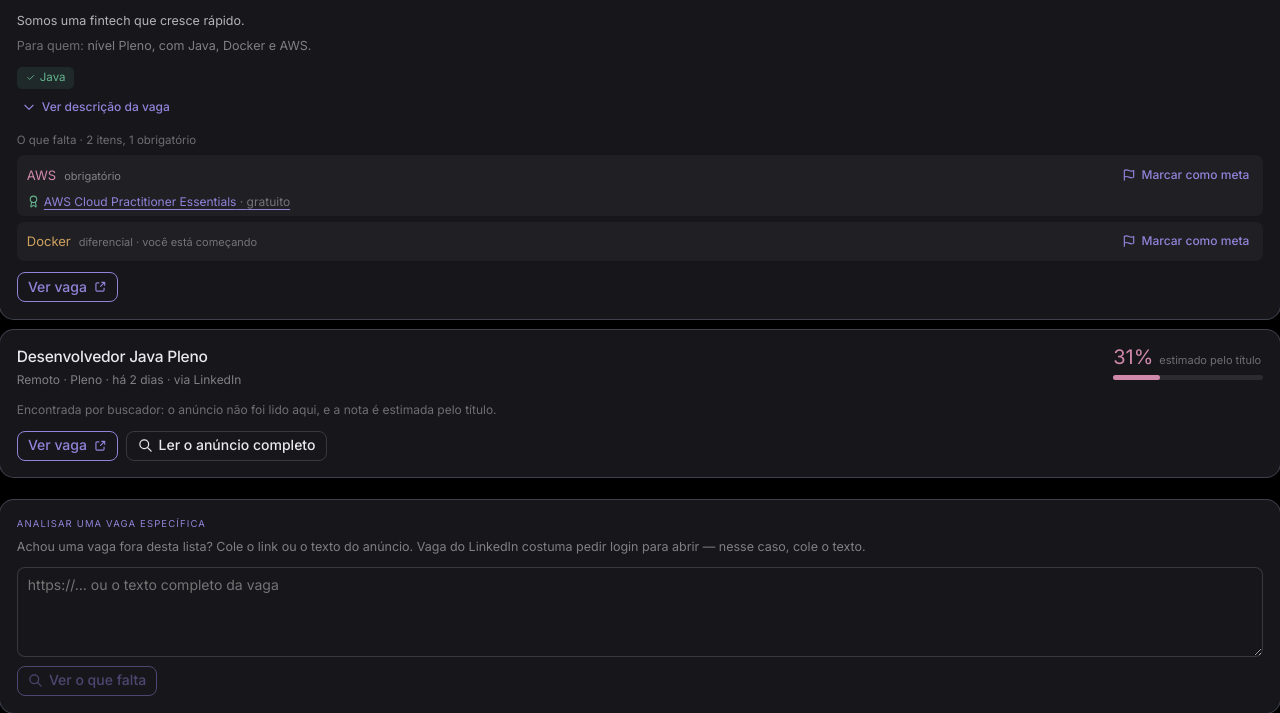
Test: vagas › vaga de buscador oferece ler o anúncio completo pela IA
This screenshot has width=1280, height=713.
(page scrolled)
Click the button "Ler o anúncio completo": {"x": 226, "y": 446} [126, 431, 326, 461]
(page scrolled)
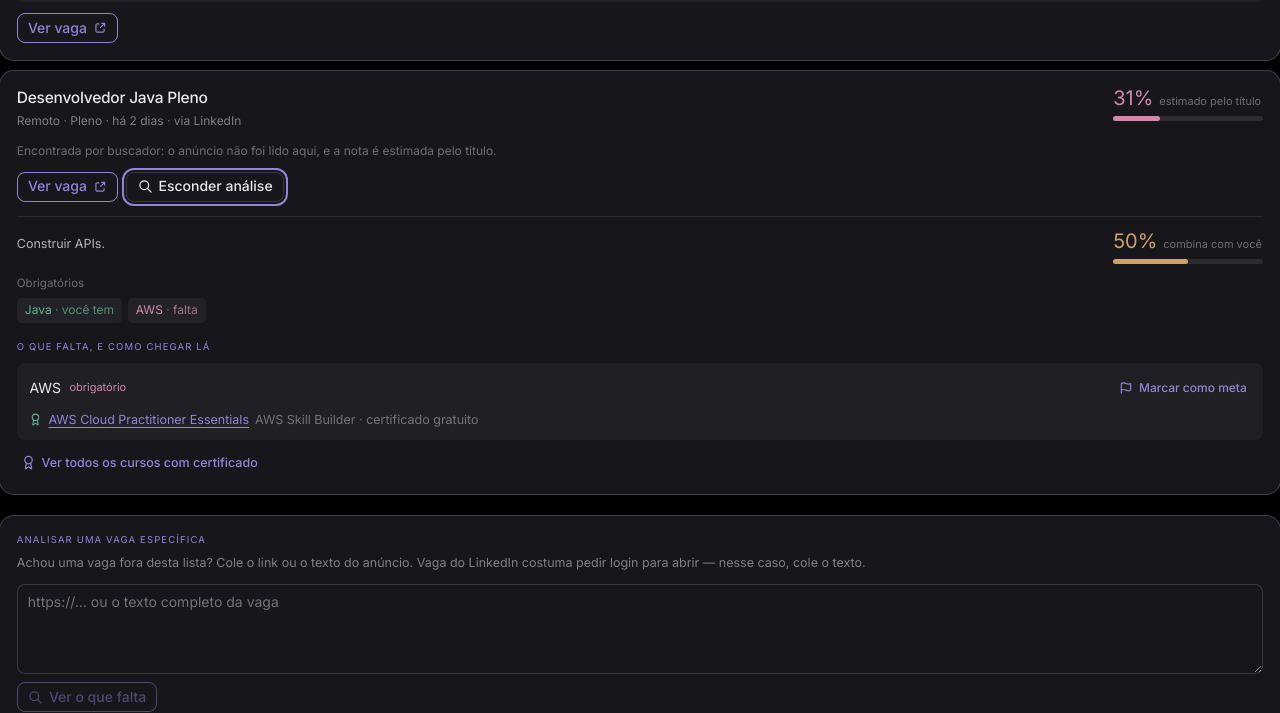
Now the element named "Análise completa da vaga" is shown, box [17, 231, 1263, 477]
